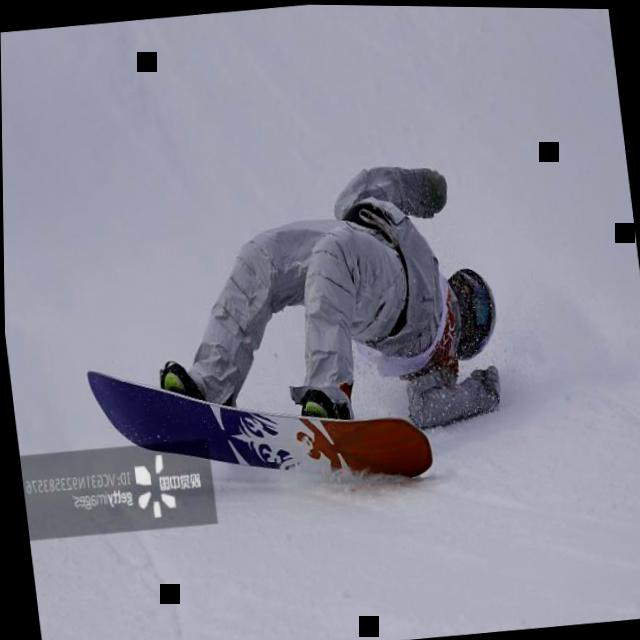Fall-Detected: (114, 104, 530, 485)
